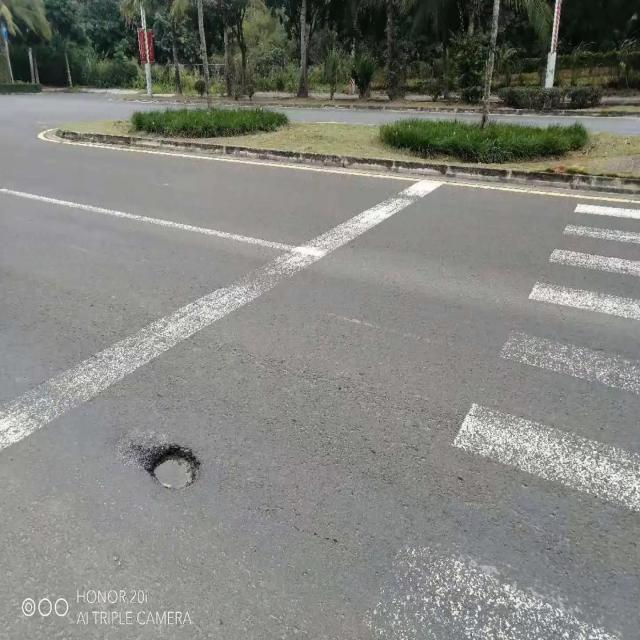Pothole: (119, 432, 205, 494)
